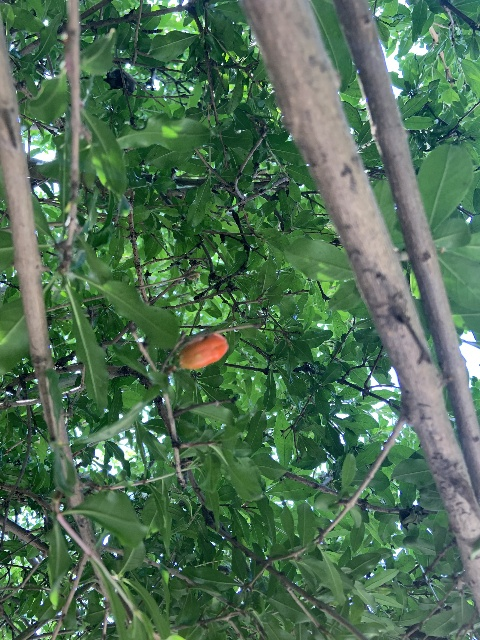bud: (178, 332, 228, 369)
